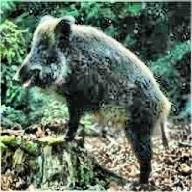boar: (12, 14, 172, 184)
